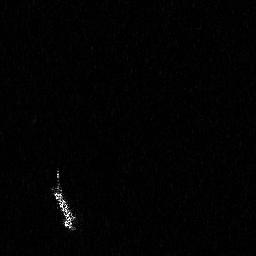ship: (48, 167, 81, 233)
